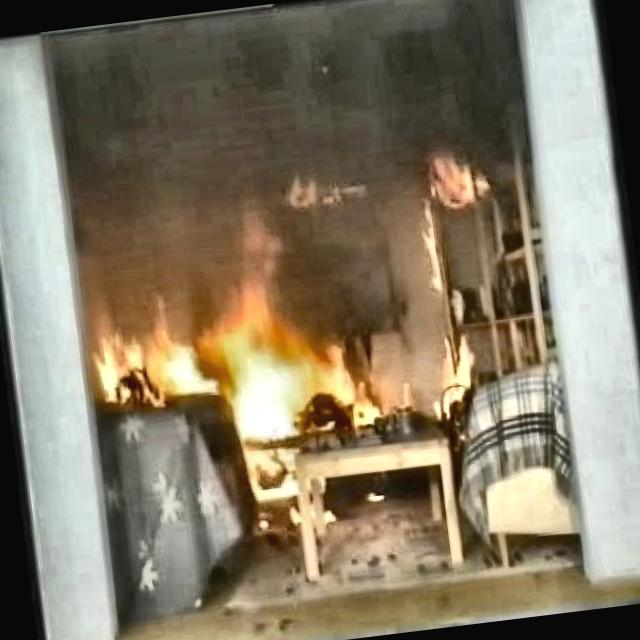fire: (77, 259, 386, 532)
